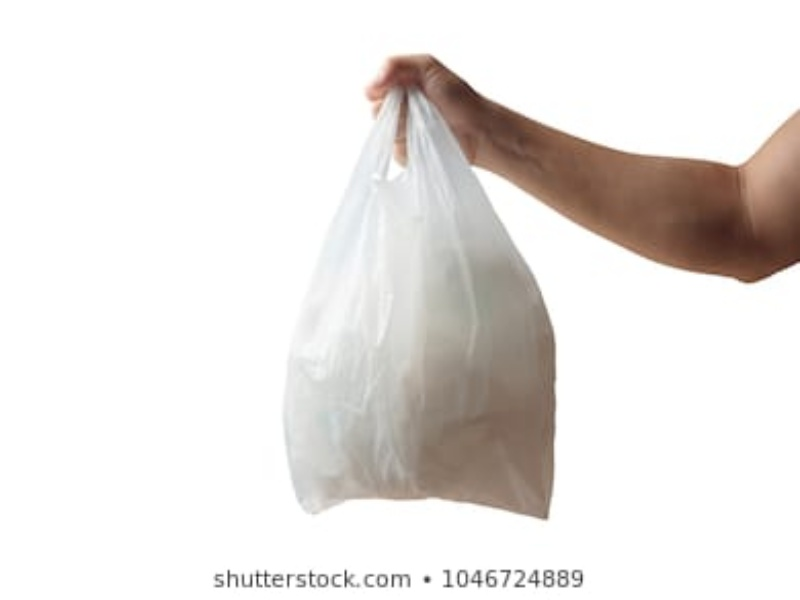plastic-bag: (281, 89, 556, 522)
